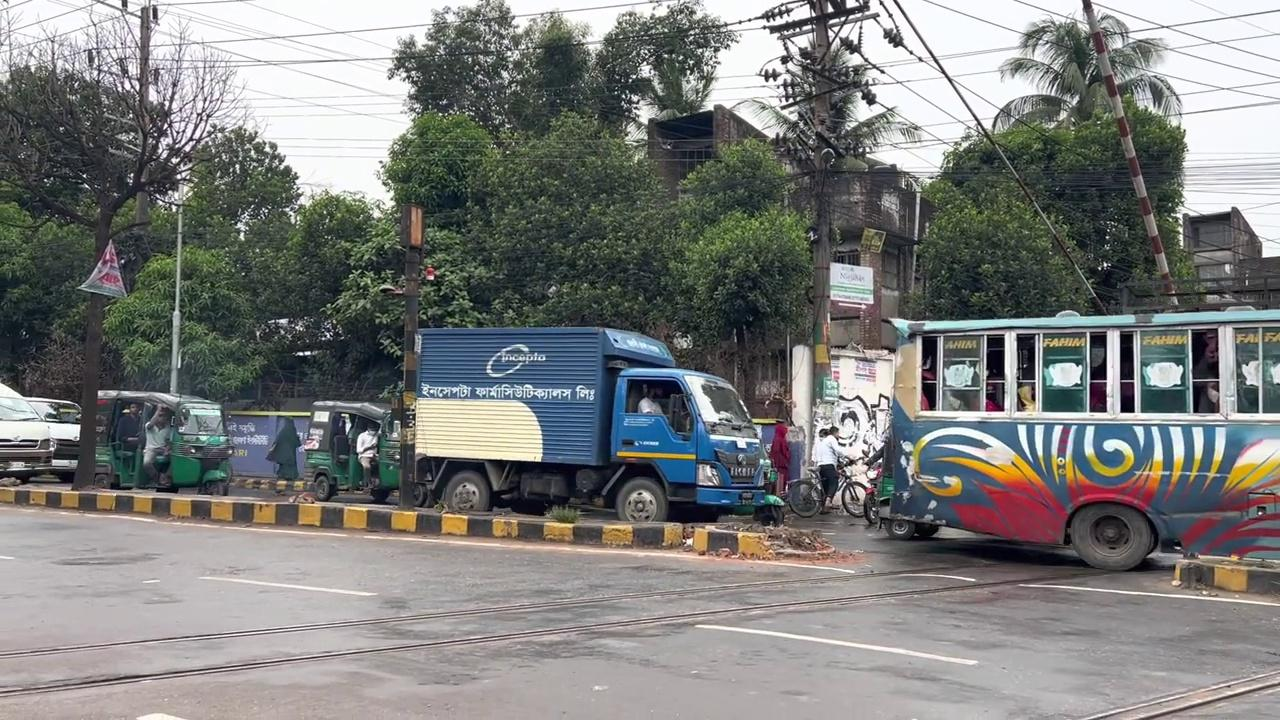Car: (1, 483, 858, 571)
Fence: (813, 426, 848, 514), (142, 406, 174, 486), (768, 423, 791, 498), (355, 421, 379, 492), (115, 401, 143, 453), (637, 384, 663, 414)
Garbage: (1080, 0, 1180, 306), (394, 202, 426, 509), (133, 3, 155, 225), (168, 179, 185, 394)
Rickshaw: (874, 305, 1279, 571), (404, 325, 773, 523), (94, 389, 233, 495), (301, 399, 399, 502)
